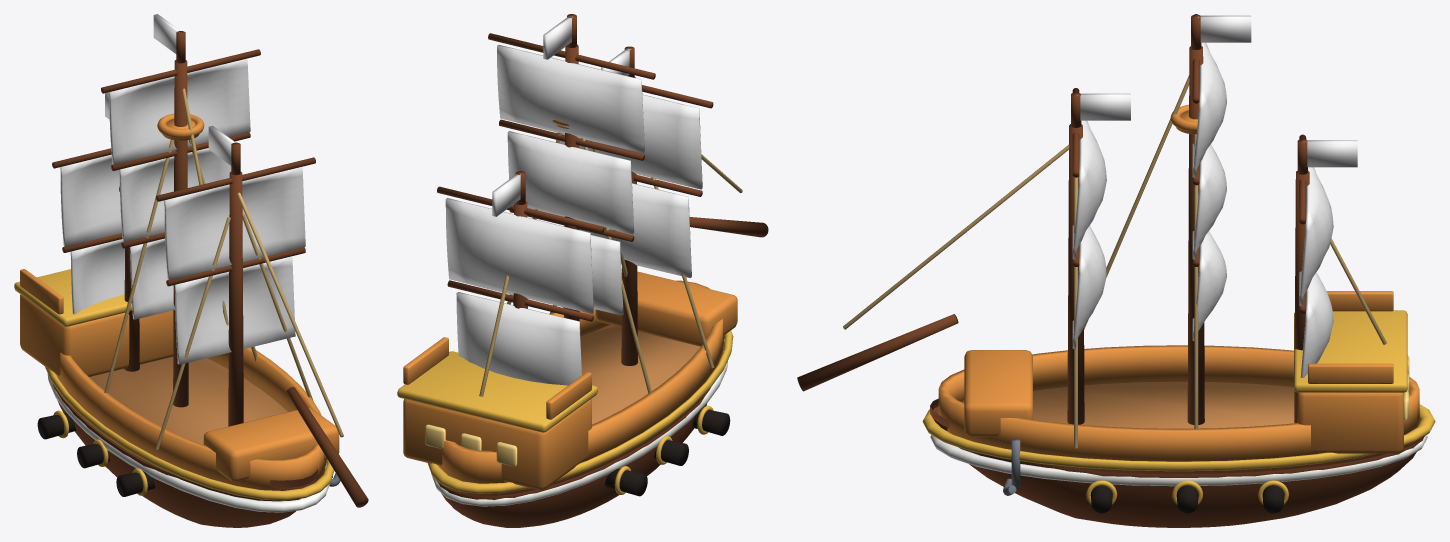
File: barco.glb
3 renders of one model, left to right at view 1: azimuth 30°, elevation 25°; view 2: azimuth 150°, elevation 25°; view 3: azimuth 270°, elevation 25°, orthographic. The views are drawn at different scales.
Parts seen in each view (by area): view 1: Barco_fijo; view 2: Barco_fijo; view 3: Barco_fijo.
Boxes of the visible parts, x1,y1,x2,y2 form: Barco_fijo: [14, 14, 368, 527]; Barco_fijo: [397, 14, 768, 527]; Barco_fijo: [797, 14, 1435, 527].
Bounding box in the file's own units: 1.5 × 3.22 × 3.72.
2 materials, 2 textured.
